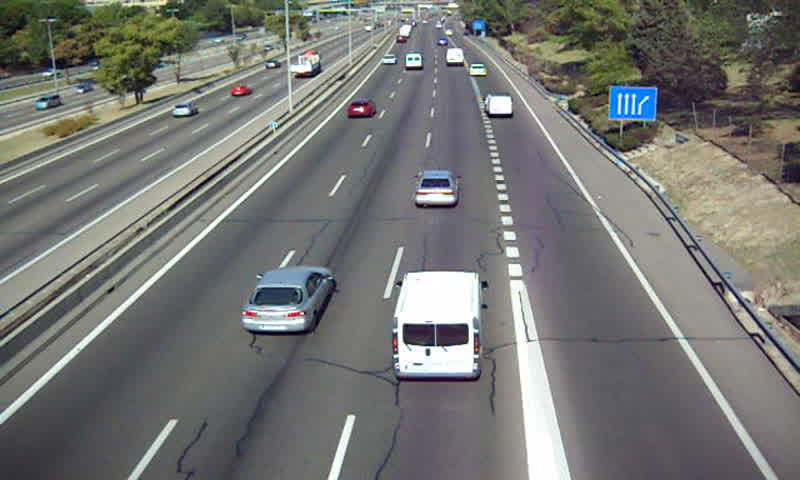car: (244, 265, 333, 332), (415, 170, 457, 207), (347, 100, 376, 118), (469, 63, 488, 77), (380, 52, 397, 64)
van: (393, 271, 483, 380), (485, 93, 513, 118), (446, 48, 464, 67), (404, 52, 422, 70)
